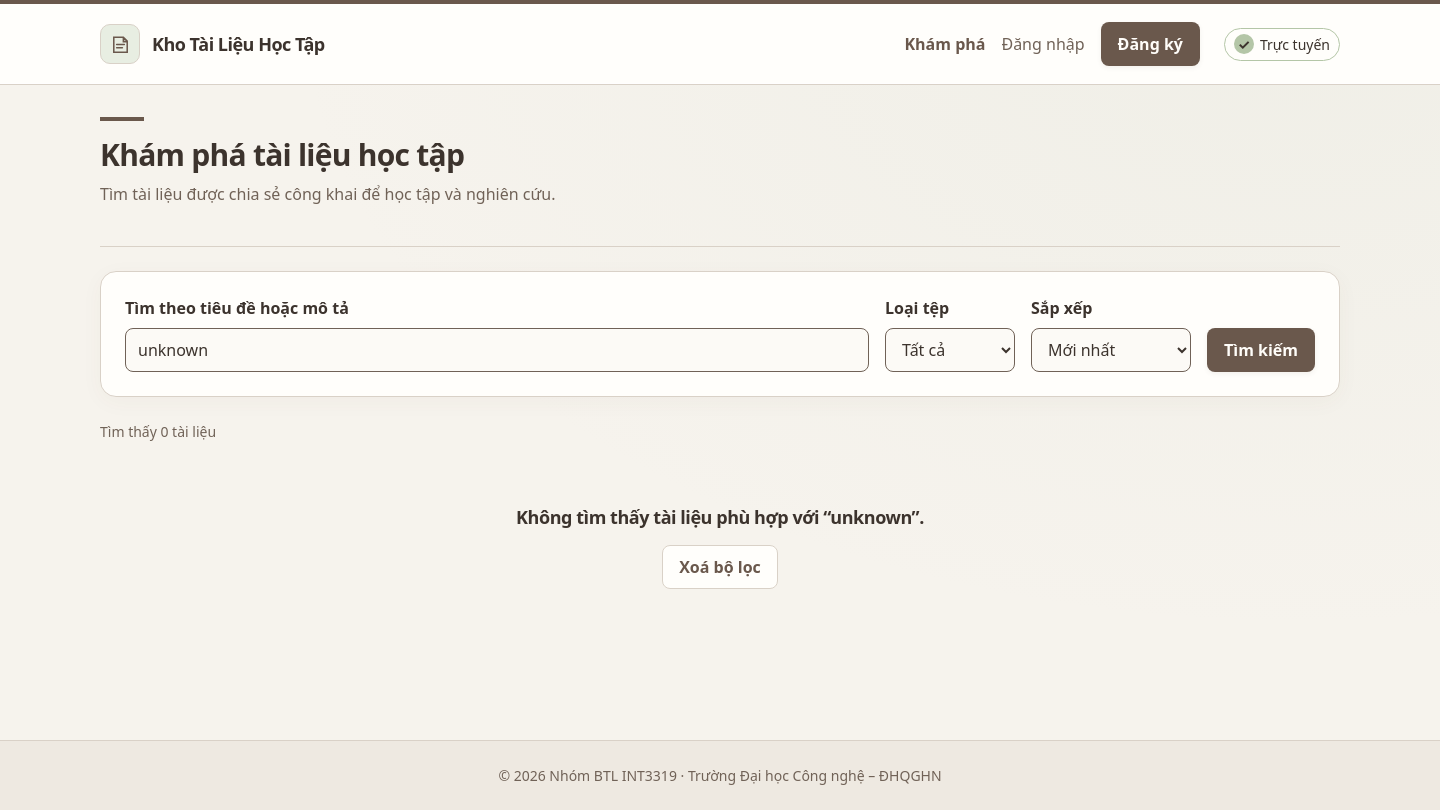
Test case: authentication, navigation and public discovery › shows filtered empty state and clears search filters
expect the heading "Không tìm thấy tài liệu phù hợp với “unknown”." is shown: met, box [516,505,924,529]
Click the button "Xoá bộ lọc".
click(720, 567)  # box [662,545,778,589]
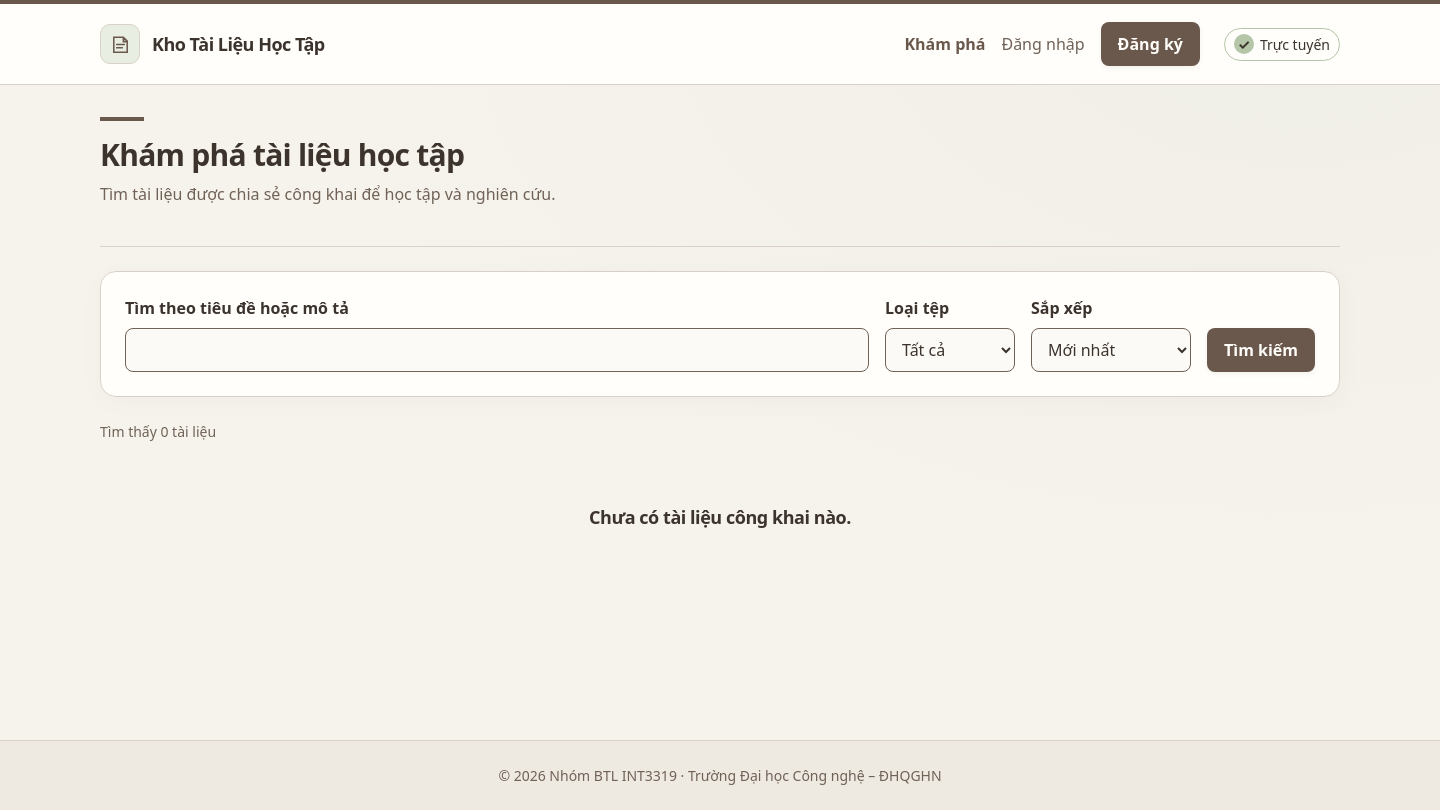
expect the heading "Chưa có tài liệu công khai nào." is shown: met, box [589,505,851,529]
